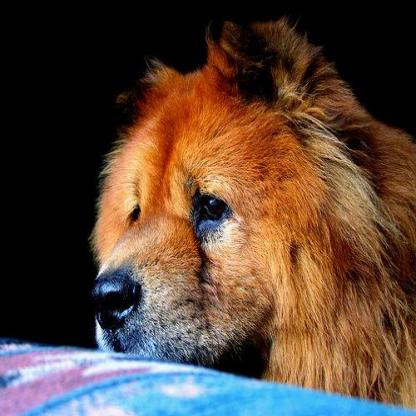chow: (85, 1, 413, 413)
